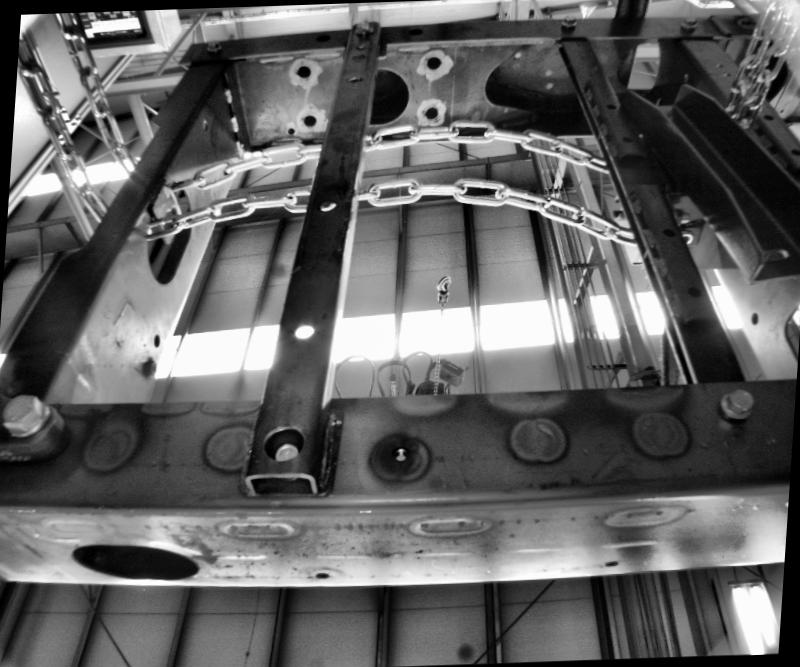bolt: (1, 386, 55, 446), (715, 388, 760, 420), (138, 355, 160, 380), (558, 12, 582, 27), (680, 14, 699, 32), (203, 36, 223, 52)
bracket: (142, 162, 191, 243)
hole: (51, 530, 208, 584), (264, 423, 304, 463), (292, 320, 318, 344), (386, 442, 412, 464), (318, 193, 340, 208), (294, 63, 314, 79), (420, 99, 438, 116), (302, 111, 319, 128), (344, 71, 364, 83), (747, 310, 762, 324), (312, 30, 332, 40), (425, 50, 440, 62), (604, 556, 618, 568), (315, 568, 330, 578), (406, 26, 422, 34), (152, 334, 160, 346), (354, 35, 365, 43), (288, 126, 296, 132)
welding: (221, 84, 236, 101), (228, 114, 241, 132), (232, 138, 244, 156)
